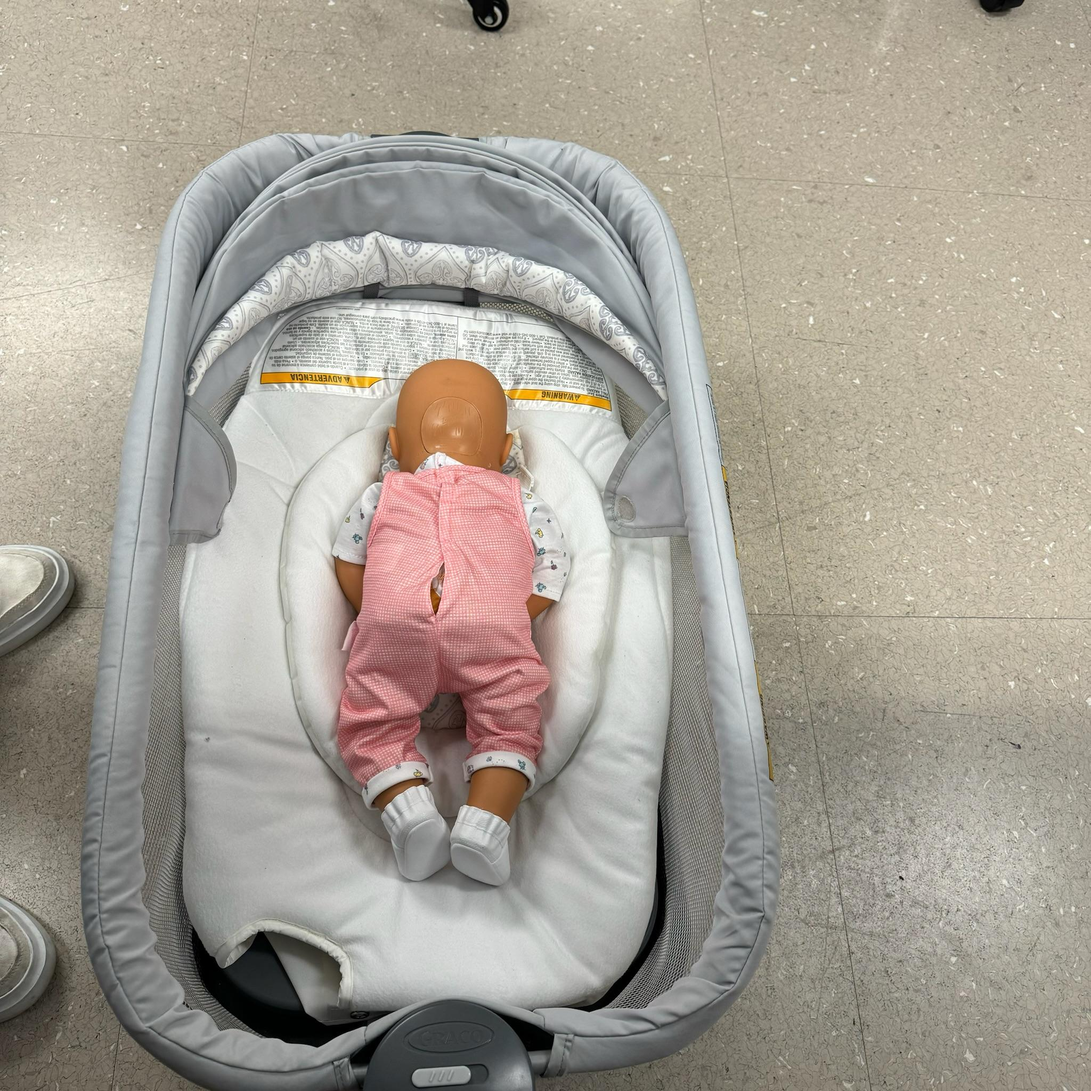baby: (293, 344, 589, 900)
